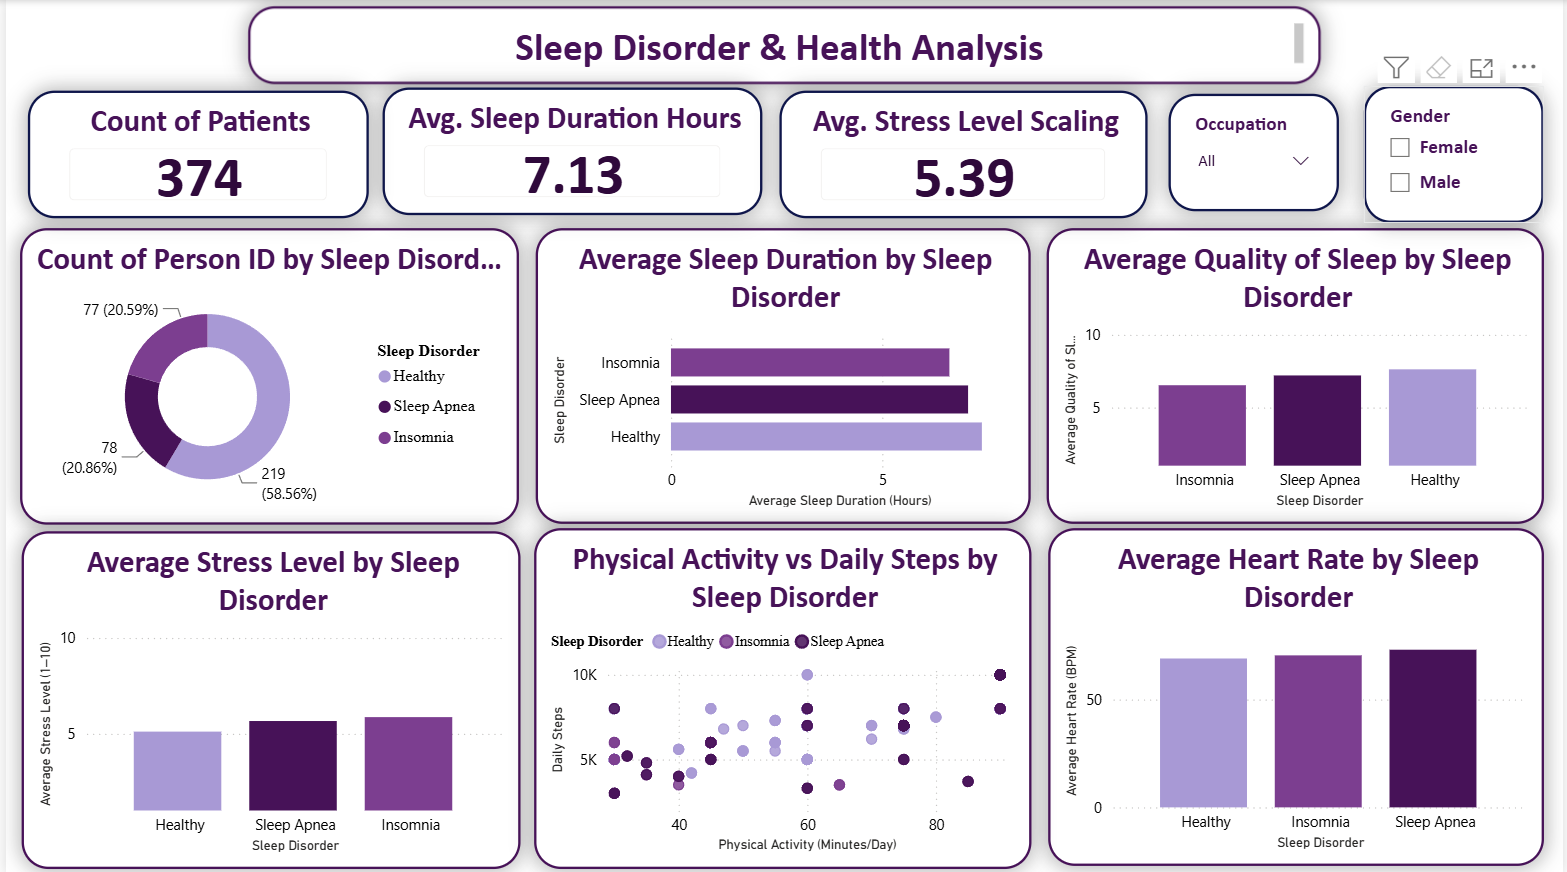

The dashboard page shown, as its layout file describes it:
{"tool":"powerbi","page":{"name":"Page 1","canvas":[1280,720],"ordinal":0},"visuals":[{"type":"donutChart","fields":{"Category":["Sheet1.Sleep Disorder"],"Y":["CountNonNull(Sheet1.Person ID)"]},"box":[11.5,187.7,410,243.8],"z":0},{"type":"clusteredBarChart","title":"Average Sleep Duration by Sleep Disorder","fields":{"Category":["Sheet1.Sleep Disorder"],"Y":["Avg(Sheet1.Sleep Duration)"]},"box":[435,187.7,407.1,243.5],"z":1000},{"type":"clusteredColumnChart","title":"Average Quality of Sleep by Sleep Disorder","fields":{"Category":["Sheet1.Sleep Disorder"],"Y":["Avg(Sheet1.Quality of Sleep)"]},"box":[855.6,187.7,409,243.5],"z":2000},{"type":"clusteredColumnChart","title":"Average Stress Level by Sleep Disorder","fields":{"Category":["Sheet1.Sleep Disorder"],"Y":["Avg(Sheet1.Stress Level)"]},"box":[13.3,436.7,410,277.8],"z":3000},{"type":"clusteredColumnChart","title":"Average Heart Rate by Sleep Disorder","fields":{"Category":["Sheet1.Sleep Disorder"],"Y":["Avg(Sheet1.Heart Rate)"]},"box":[856.7,434.4,407.8,277.8],"z":4000},{"type":"scatterChart","title":"Physical Activity vs Daily Steps by Sleep Disorder","fields":{"X":["Avg(Sheet1.Physical Activity Level)"],"Y":["Avg(Sheet1.Daily Steps)"],"Series":["Sheet1.Sleep Disorder"],"Category":["Sheet1.Person ID"]},"box":[434.4,434.4,408.9,280],"z":5000},{"type":"textbox","box":[199,5,882,64],"z":6000},{"type":"slicer","fields":{"Values":["Sheet1.Gender"]},"box":[1115.9,70.9,148.1,112.7],"z":7000},{"type":"slicer","fields":{"Values":["Sheet1.Occupation"]},"box":[956.5,77.3,140.1,96.6],"z":8000},{"type":"cardVisual","title":"Avg. Sleep Duration Hours","fields":{"Data":["Avg(Sheet1.Sleep Duration)"]},"box":[309.2,72.5,312.4,104.7],"z":9000},{"type":"cardVisual","title":"Avg. Stress Level Scaling","fields":{"Data":["Avg(Sheet1.Stress Level)"]},"box":[636.1,74.1,302.7,104.7],"z":10000},{"type":"cardVisual","title":"Count of Patients","fields":{"Data":["Count(Sheet1.Person ID)"]},"box":[17.7,74.1,280.2,104.7],"z":11000}]}

Visuals, with their boxes in screenshot pixels (x1, y1, x2, y2), scaled from the page's 1280x720 canvas onto the 1567x872 screenshot:
donutChart - Sheet1.Sleep Disorder x CountNonNull(Sheet1.Person ID): region(14, 227, 516, 523)
"Average Sleep Duration by Sleep Disorder" clusteredBarChart: region(533, 227, 1031, 522)
"Average Quality of Sleep by Sleep Disorder" clusteredColumnChart: region(1047, 227, 1548, 522)
"Average Stress Level by Sleep Disorder" clusteredColumnChart: region(16, 529, 518, 865)
"Average Heart Rate by Sleep Disorder" clusteredColumnChart: region(1049, 526, 1548, 863)
"Physical Activity vs Daily Steps by Sleep Disorder" scatterChart: region(532, 526, 1032, 865)
textbox: region(244, 6, 1323, 84)
slicer - Sheet1.Gender: region(1366, 86, 1547, 222)
slicer - Sheet1.Occupation: region(1171, 94, 1342, 211)
"Avg. Sleep Duration Hours" cardVisual: region(379, 88, 761, 215)
"Avg. Stress Level Scaling" cardVisual: region(779, 90, 1149, 217)
"Count of Patients" cardVisual: region(22, 90, 365, 217)
